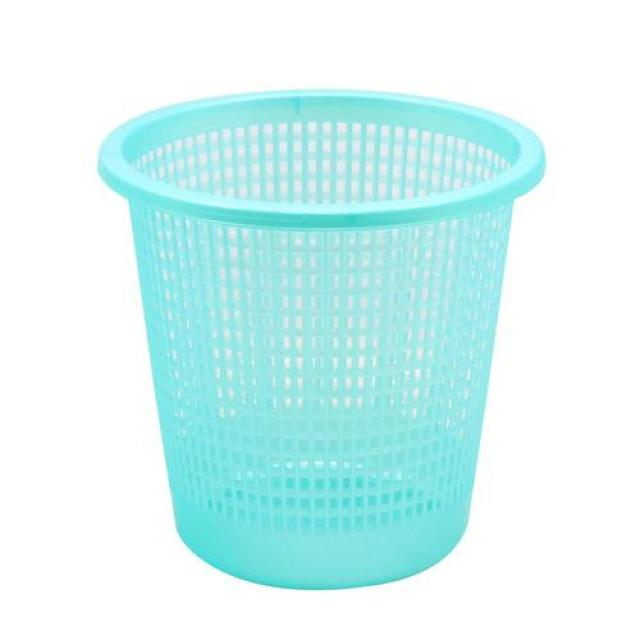Dustbin: (92, 81, 550, 597)
